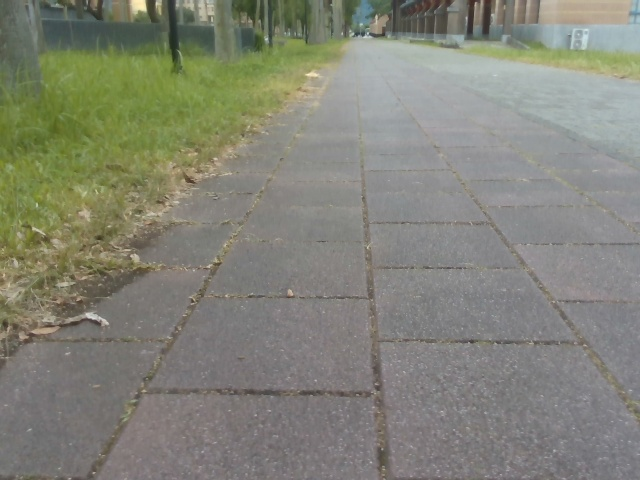grass: (0, 35, 354, 337), (385, 39, 639, 85), (0, 0, 102, 100), (210, 0, 391, 44)
road: (0, 42, 639, 479)
